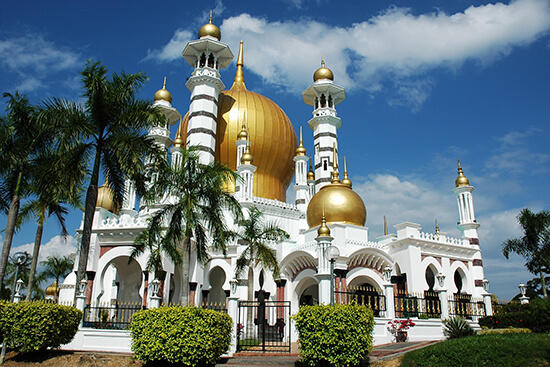Mosque: (89, 10, 480, 331)
